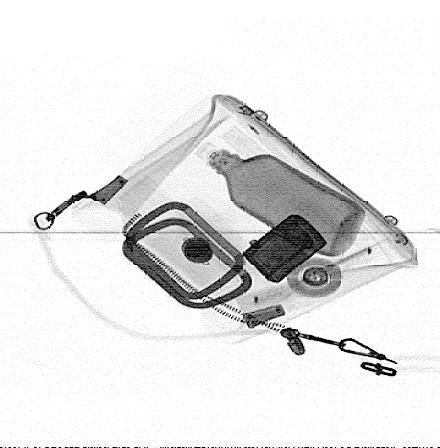Lighter: (242, 213, 328, 284)
